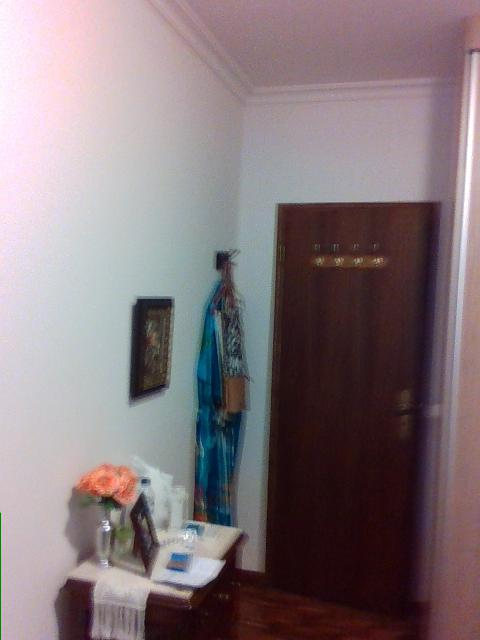door: (262, 203, 439, 613)
